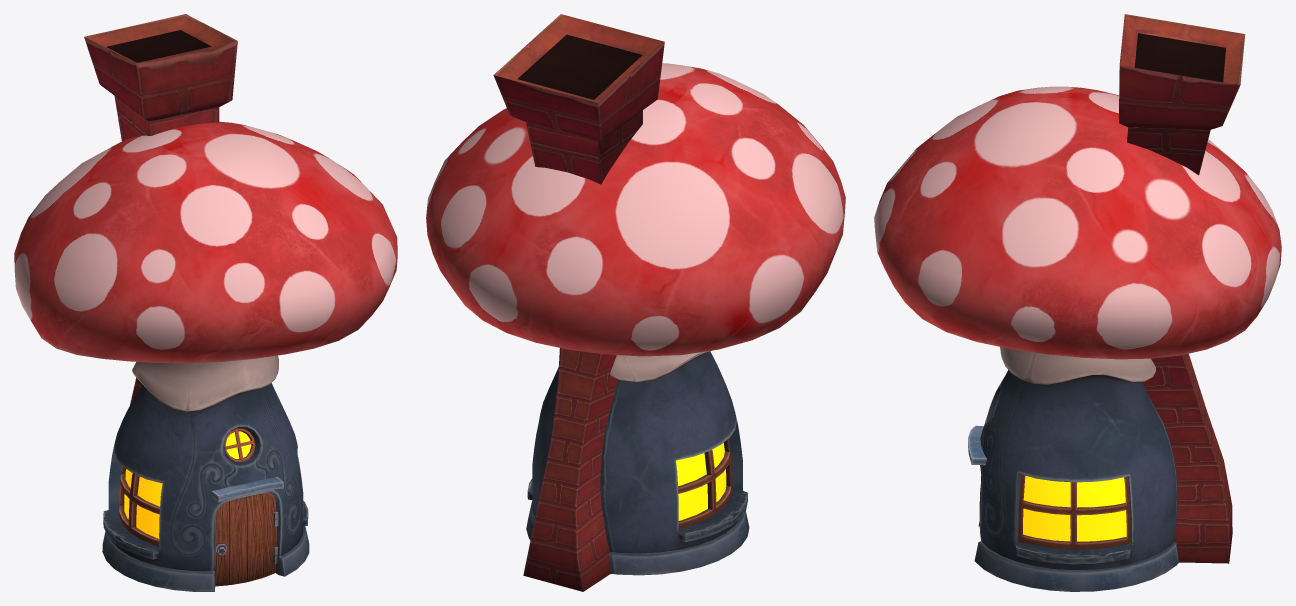
3 renders of one model, left to right at view 1: azimuth 30°, elevation 25°; view 2: azimuth 150°, elevation 25°; view 3: azimuth 270°, elevation 25°, orthographic. The views are drawn at different scales.
Visible parts, largest first — view 1: MushroomHouse; view 2: MushroomHouse; view 3: MushroomHouse.
Boxes of the visible parts, x1,y1,x2,y2 form: MushroomHouse: (14,14,397,591); MushroomHouse: (426,14,845,591); MushroomHouse: (874,14,1281,591).
Size of the model in its own units: 9.34 by 12.74 by 9.28.
Materials: 2 (2 with a texture image).
